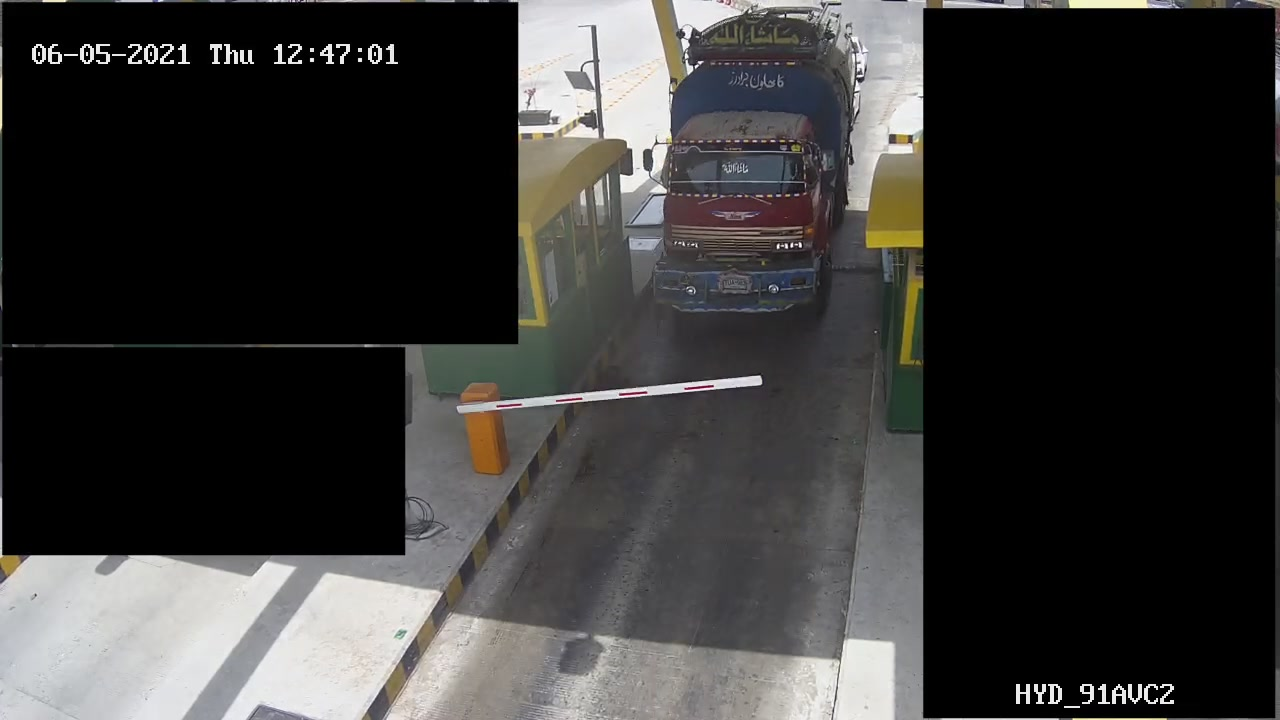F5: (660, 6, 863, 316)
